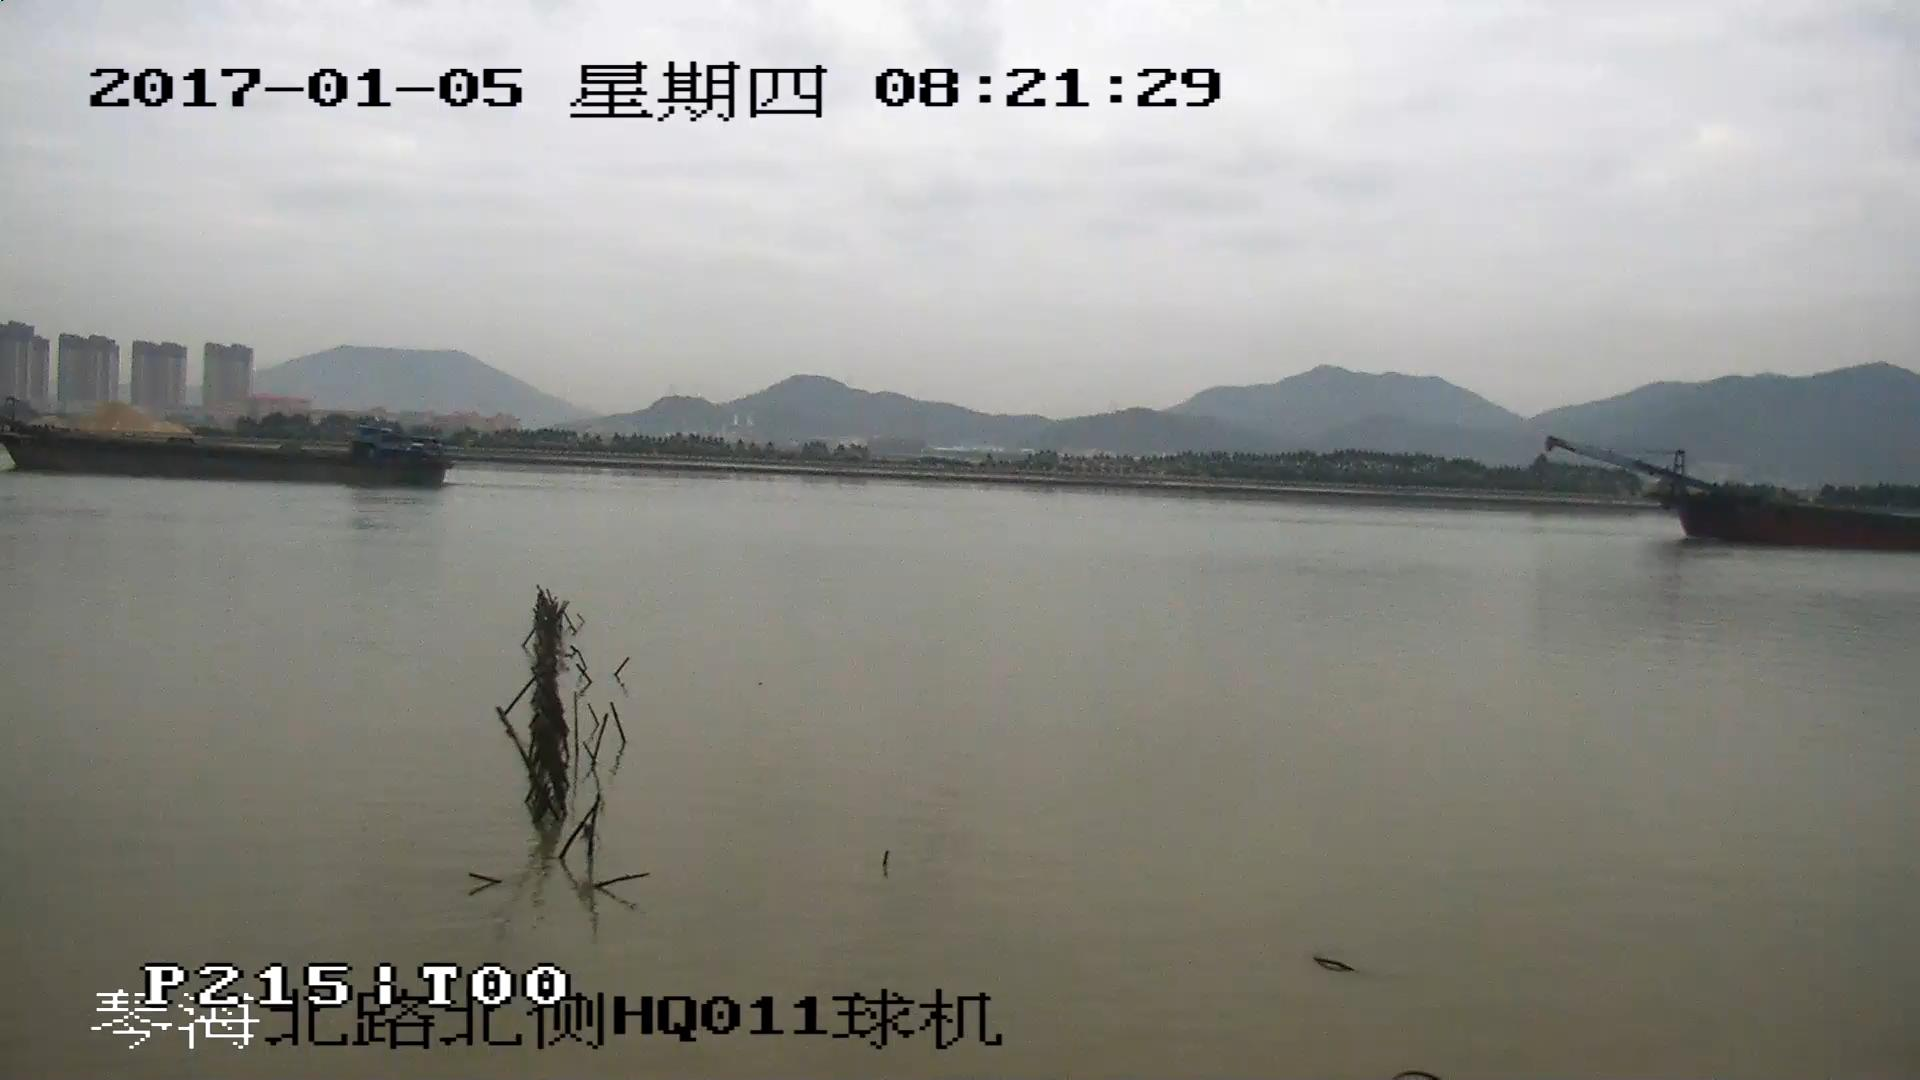bulk cargo carrier: (1553, 435, 1920, 546), (1, 421, 454, 485)
